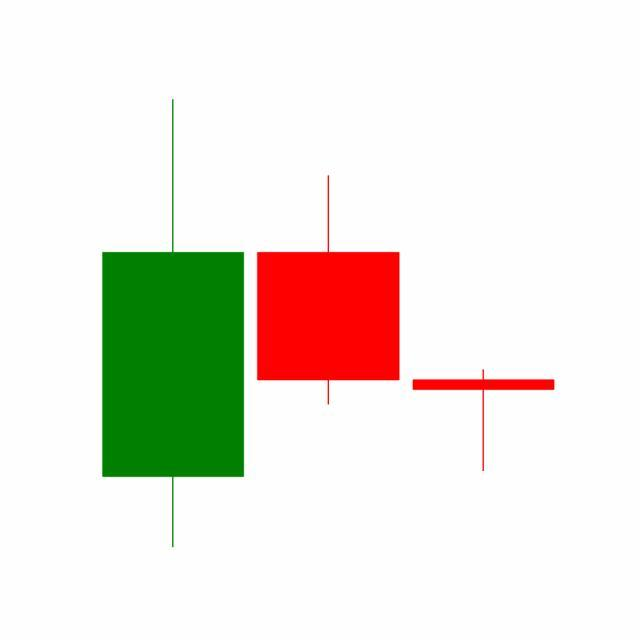Dragonfly Doji: (406, 369, 562, 474)
